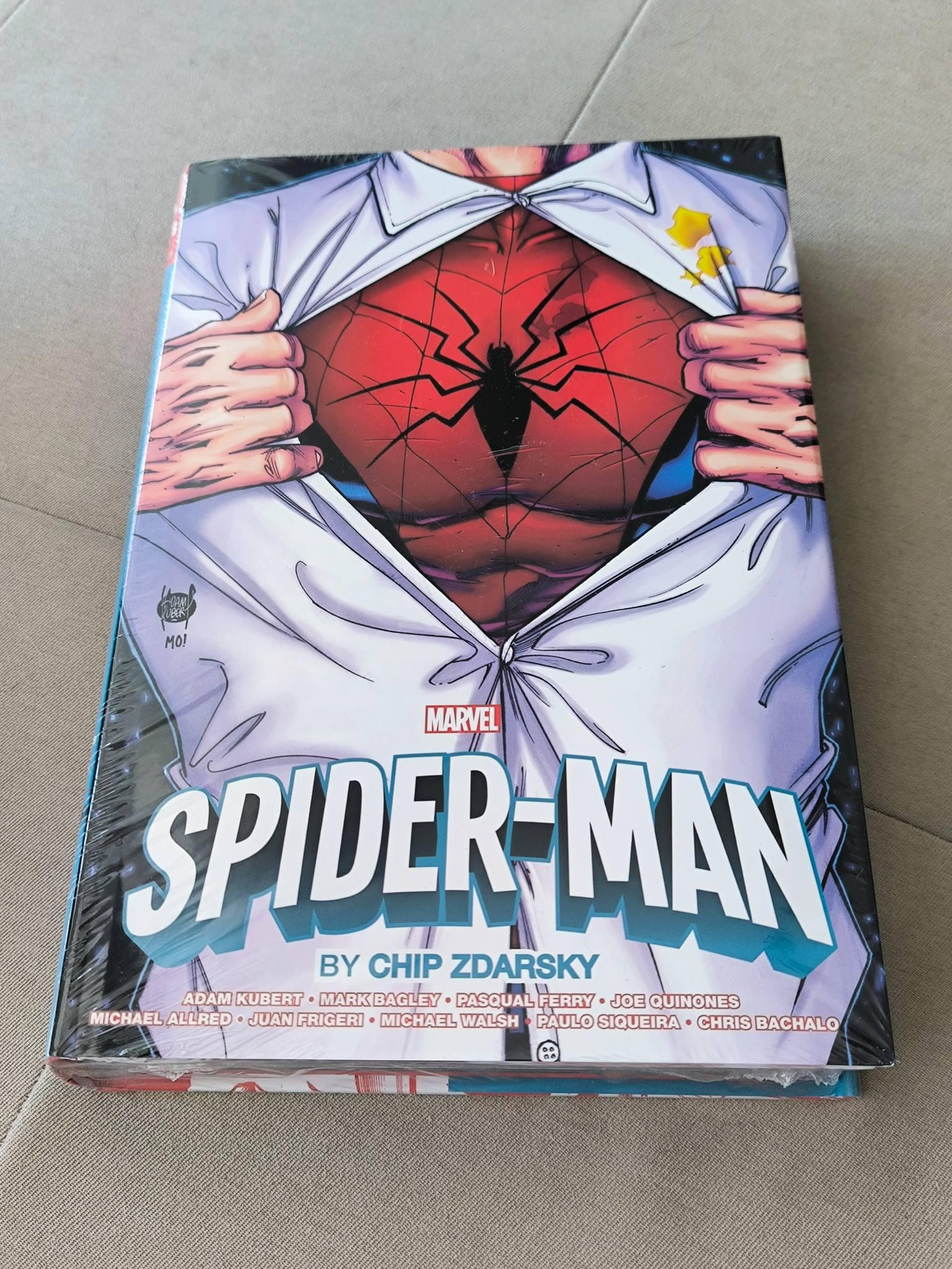comic: (50, 131, 901, 1095)
